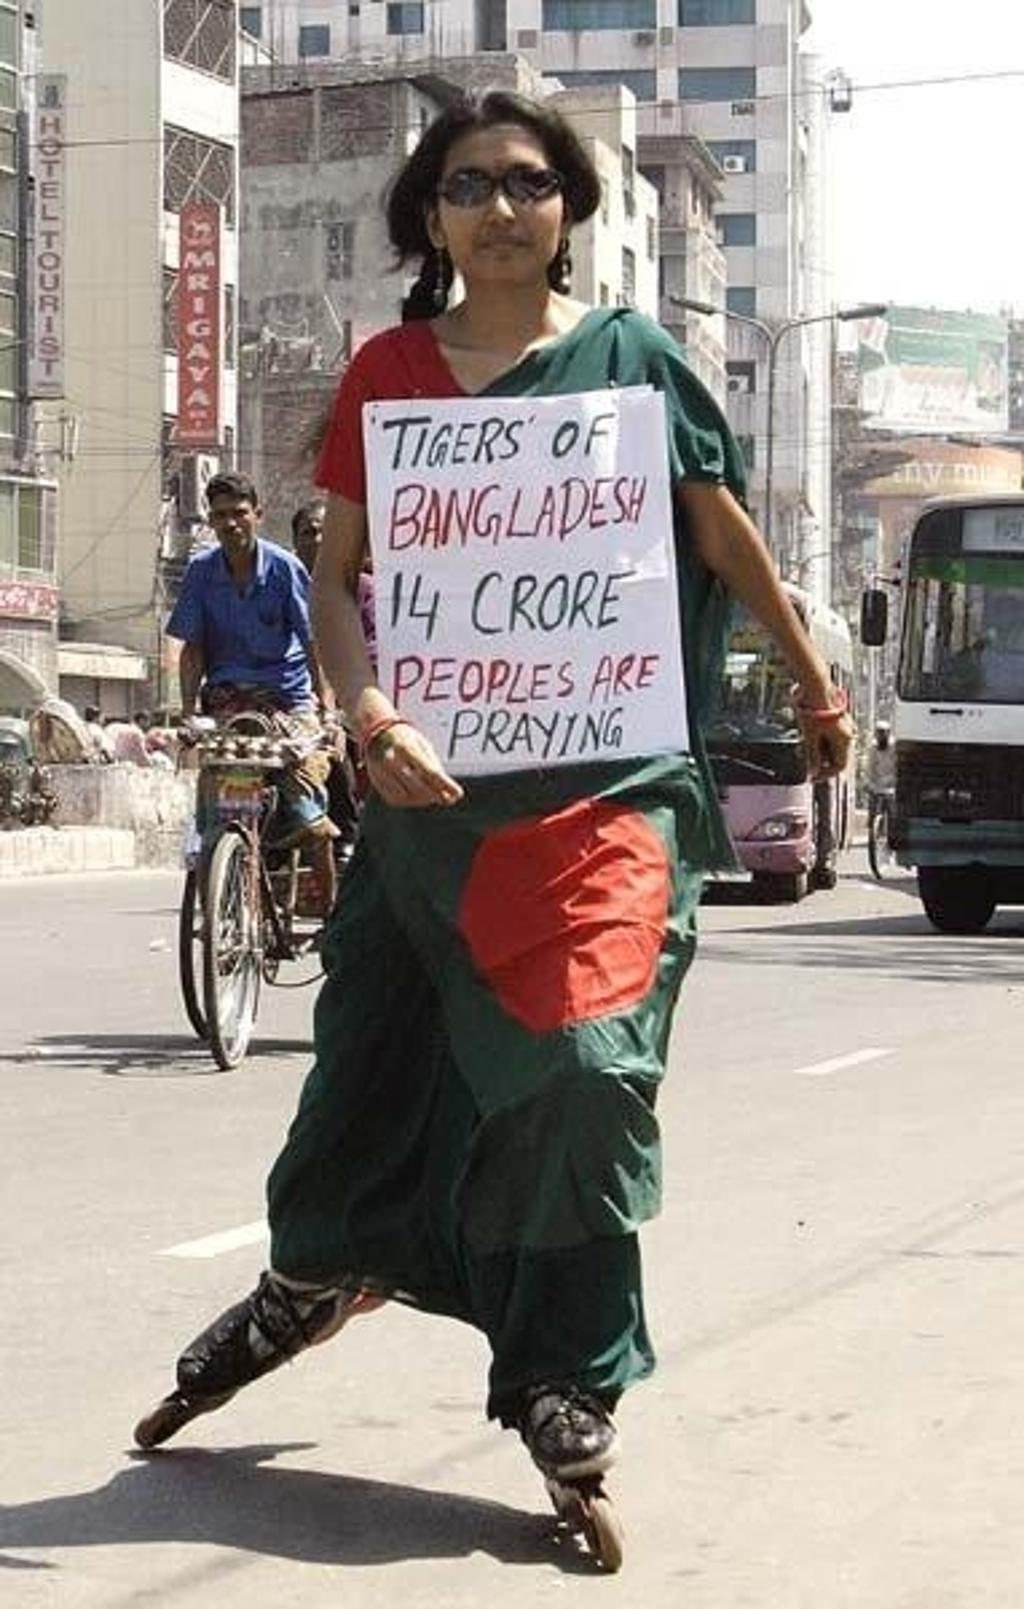face: (435, 125, 564, 286), (295, 508, 341, 570), (212, 491, 255, 552)
